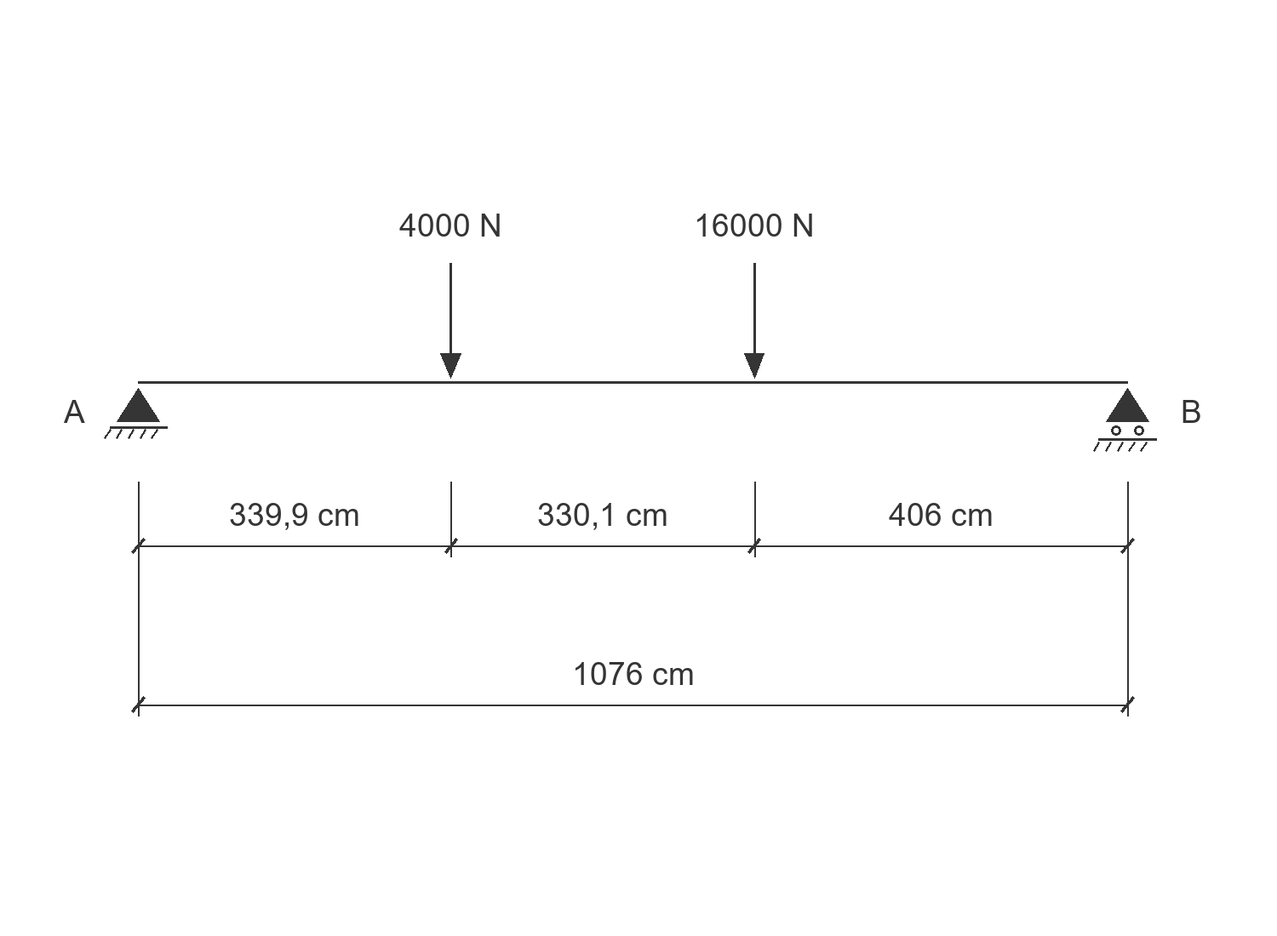pin_support: (104, 388, 168, 439)
point_load: (440, 263, 461, 379), (744, 263, 764, 379)
roller_support: (1093, 388, 1157, 452)
